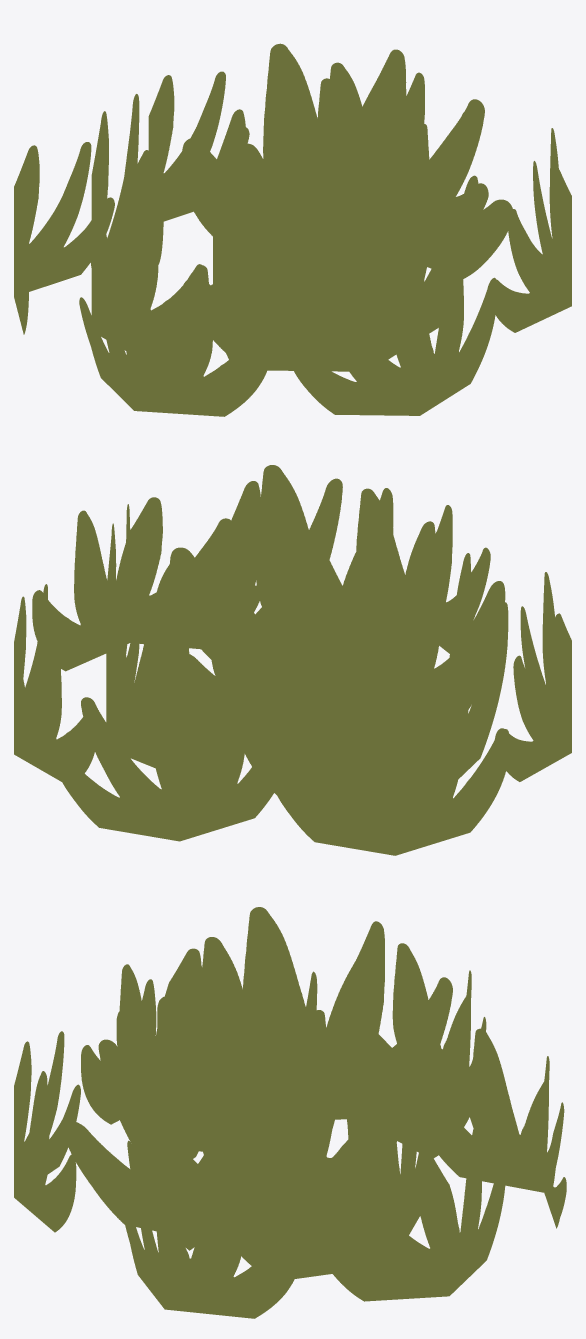
Rendered from SM_Moss_04.fbx.
The picture shows the model from 3 angles, top to bottom: view 1: azimuth 30°, elevation 25°; view 2: azimuth 150°, elevation 25°; view 3: azimuth 270°, elevation 25°; orthographic projection.
Visible parts, largest first — view 1: SM_Moss_04; view 2: SM_Moss_04; view 3: SM_Moss_04.
Part boxes in pixels (x1=…): SM_Moss_04: x1=14, y1=43, x2=571, y2=416; SM_Moss_04: x1=14, y1=465, x2=571, y2=855; SM_Moss_04: x1=14, y1=907, x2=566, y2=1318.
Size of the model in its own units: 24.65 by 11.08 by 23.87.
